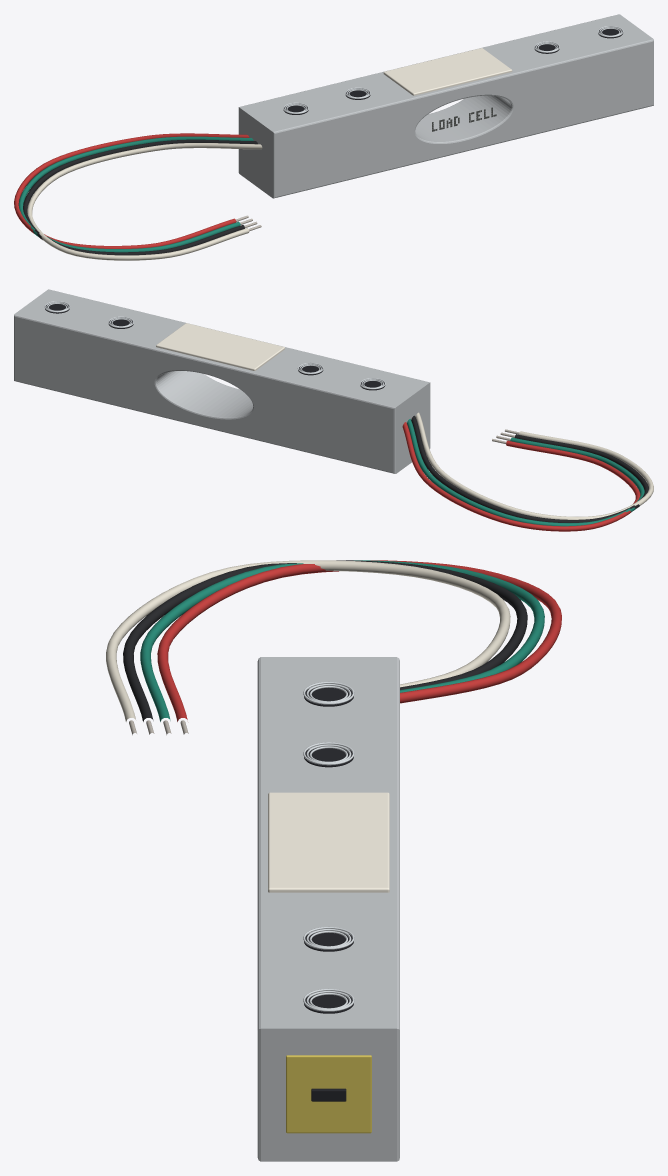
Rendered from sensors-25.glb.
The picture shows the model from 3 angles, top to bottom: view 1: azimuth 30°, elevation 25°; view 2: azimuth 150°, elevation 25°; view 3: azimuth 270°, elevation 25°; orthographic projection. The views are drawn at different scales.
Visible parts, largest first — view 1: beam, leads, cover, mounting; view 2: beam, leads, cover, mounting; view 3: beam, leads, cover, mounting.
Part boxes in pixels (bbox=[...]): beam: bbox=[238, 14, 653, 198]; leads: bbox=[14, 133, 262, 260]; cover: bbox=[383, 48, 512, 131]; mounting: bbox=[283, 26, 623, 114]; beam: bbox=[14, 289, 430, 473]; leads: bbox=[402, 412, 653, 531]; cover: bbox=[156, 323, 284, 370]; mounting: bbox=[44, 301, 385, 390]; beam: bbox=[257, 657, 399, 1161]; leads: bbox=[106, 560, 561, 735]; cover: bbox=[268, 792, 389, 892]; mounting: bbox=[303, 682, 354, 1013].
Size of the model in its own units: 3.9 by 0.423 by 1.27.
